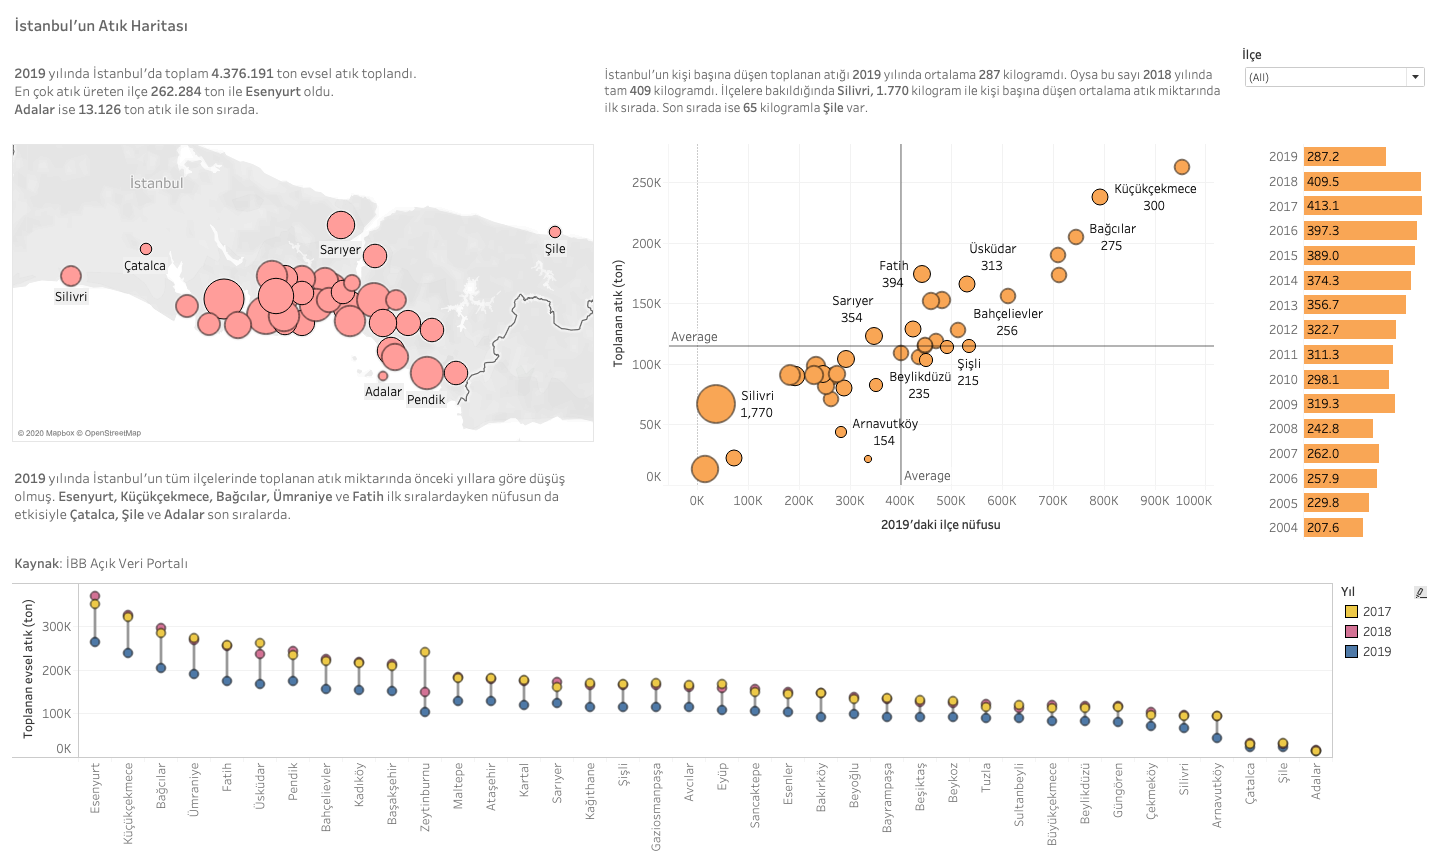

The page's visual inventory and layout, read from the dashboard file:
{"tool":"tableau","page":{"name":"Dashboard","canvas":[1000,1000],"units":"permille","ordinal":0},"visuals":[{"type":"text","box":[6.5,9.9,987,39.5]},{"type":"text","box":[6.5,49.4,409.1,112.5]},{"type":"text","box":[415.7,49.4,443.5,112.5]},{"type":"filter","title":"İstanbul'ın atık haritası","param":"[federated.1b1yl9m1be0hom19gmom60ecucmj].[none:İlçe (Evsel Atık (edited)):nk]","box":[859.1,49.4,134.4,112.5]},{"type":"worksheet","title":"İstanbul'ın atık haritası","mark":"Automatic","box":[6.5,162,409.3,351.6]},{"type":"worksheet","title":"İlçelere göre kişi başı atık miktarı","mark":"Circle","rows":["Evsel Atık"],"cols":["Nüfus"],"box":[415.8,162,429.8,464.2]},{"type":"worksheet","title":"Yıllara göre kişi başı atık miktarı","mark":"Bar","rows":["Yıl"],"cols":["Calculation_4090605484317278215"],"box":[845.6,162,147.9,464.2]},{"type":"text","box":[6.5,513.5,409.3,112.7]},{"type":"text","box":[6.5,626.2,506.8,39.6]},{"type":"blank","box":[513.3,626.2,332.3,39.6]},{"type":"blank","box":[845.6,626.2,147.9,39.6]},{"type":"worksheet","title":"İlçelere göre atık miktarı","mark":"Automatic","rows":["Evsel Atık","Evsel Atık"],"cols":["İlçe (Evsel Atık (edited))"],"box":[6.5,665.8,921.3,324.3]},{"type":"legend","title":"İlçelere göre atık miktarı","param":"[federated.1b1yl9m1be0hom19gmom60ecucmj].[none:Yıl:ok]","box":[927.8,665.8,65.7,324.3]}]}

Visuals, with their boxes on the dashboard's canvas, which has no fixed pixel size, in thousandths of its width and height (x1, y1, x2, y2). These are canvas units, not pixel positions in the 1440x865 screenshot, which may show the page scaled, cropped or inside an application window:
text: (x1=6, y1=10, x2=994, y2=49)
text: (x1=6, y1=49, x2=416, y2=162)
text: (x1=416, y1=49, x2=859, y2=162)
"İstanbul'ın atık haritası" filter: (x1=859, y1=49, x2=994, y2=162)
"İstanbul'ın atık haritası" worksheet: (x1=6, y1=162, x2=416, y2=514)
"İlçelere göre kişi başı atık miktarı" worksheet (Circle marks): (x1=416, y1=162, x2=846, y2=626)
"Yıllara göre kişi başı atık miktarı" worksheet (Bar marks): (x1=846, y1=162, x2=994, y2=626)
text: (x1=6, y1=514, x2=416, y2=626)
text: (x1=6, y1=626, x2=513, y2=666)
blank: (x1=513, y1=626, x2=846, y2=666)
blank: (x1=846, y1=626, x2=994, y2=666)
"İlçelere göre atık miktarı" worksheet: (x1=6, y1=666, x2=928, y2=990)
"İlçelere göre atık miktarı" legend: (x1=928, y1=666, x2=994, y2=990)
